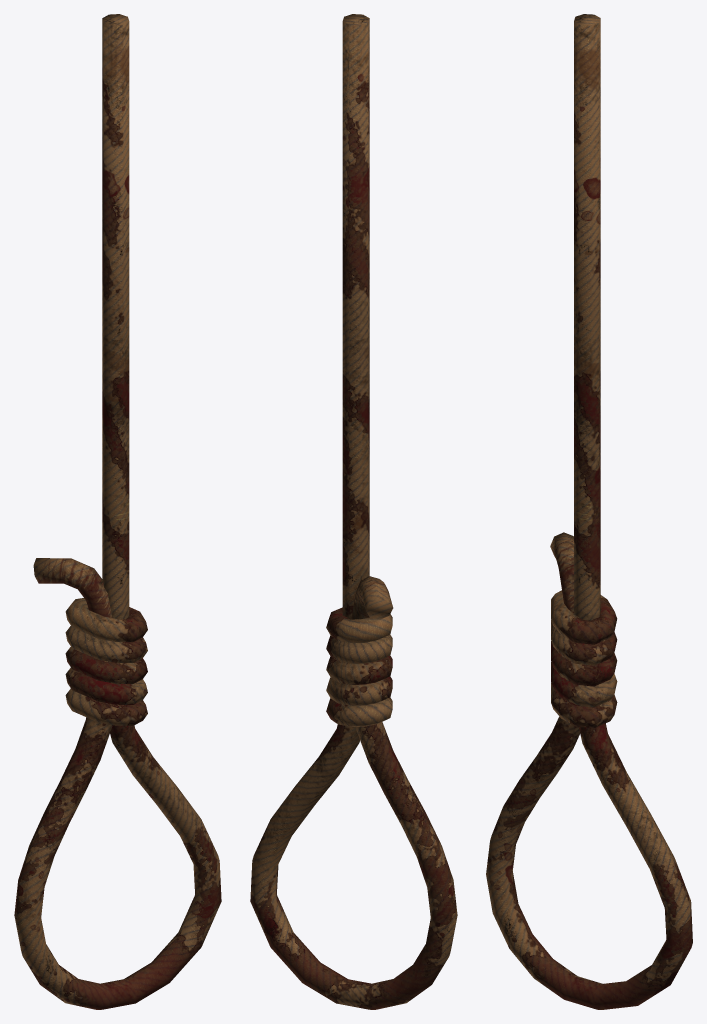
Rendered from rope.fbx.
3 views of the same model, side by side, from view 1: azimuth 30°, elevation 25°; view 2: azimuth 150°, elevation 25°; view 3: azimuth 330°, elevation 25° (orthographic).
Parts seen in each view (by area): view 1: BezierCircle.002; view 2: BezierCircle.002; view 3: BezierCircle.002.
Boxes of the visible parts, x1,y1,x2,y2 form: BezierCircle.002: [14, 14, 221, 1009]; BezierCircle.002: [250, 14, 457, 1009]; BezierCircle.002: [486, 14, 692, 1009].
Size of the model in its own units: 25.48 by 118 by 10.23.
